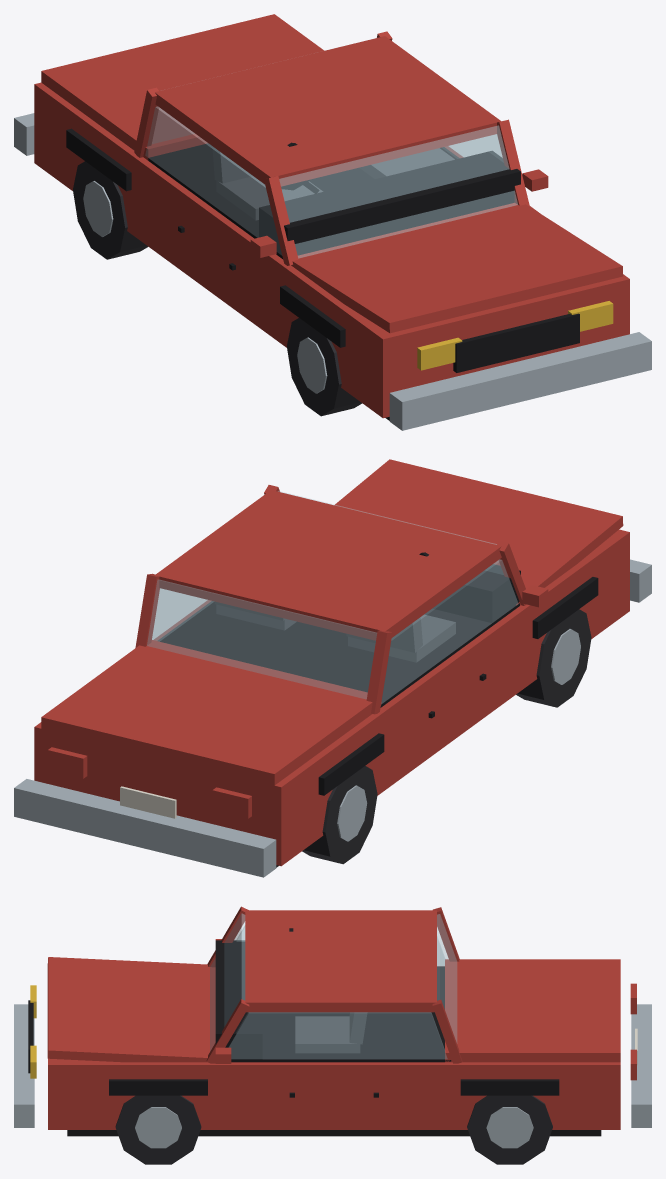
Rendered from GV_Sedan_Red_01.glb.
3 renders of one model, top to bottom at view 1: azimuth 30°, elevation 25°; view 2: azimuth 150°, elevation 25°; view 3: azimuth 270°, elevation 25°, orthographic. The views are drawn at different scales.
Parts seen in each view (by area): view 1: GV_Sedan_Red_01; view 2: GV_Sedan_Red_01; view 3: GV_Sedan_Red_01.
Boxes of the visible parts, bbox=[...] form: GV_Sedan_Red_01: bbox=[14, 14, 651, 430]; GV_Sedan_Red_01: bbox=[14, 459, 651, 877]; GV_Sedan_Red_01: bbox=[14, 906, 651, 1164].
Bounding box in the file's own units: 2.1 × 1.35 × 4.9.
Materials: 2 (2 with a texture image).
